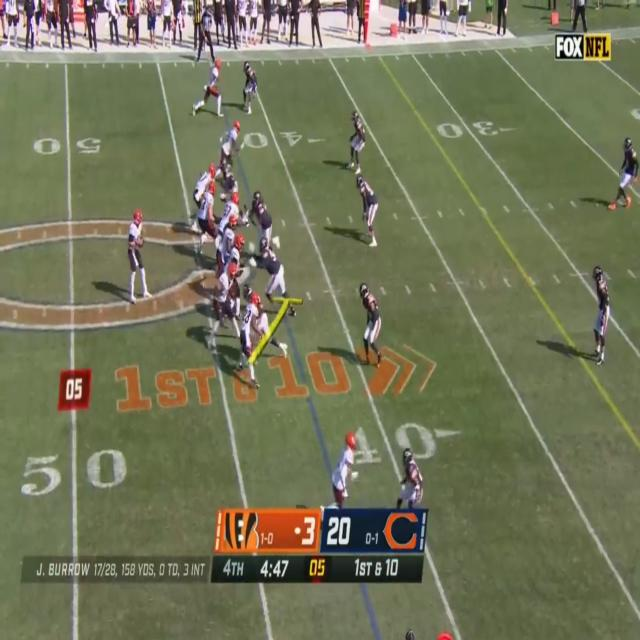Ball: (137, 234, 145, 247)
